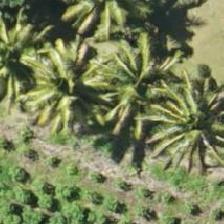coconut_tree: (23, 37, 113, 127), (92, 41, 182, 131), (145, 72, 223, 162), (0, 9, 52, 99)
